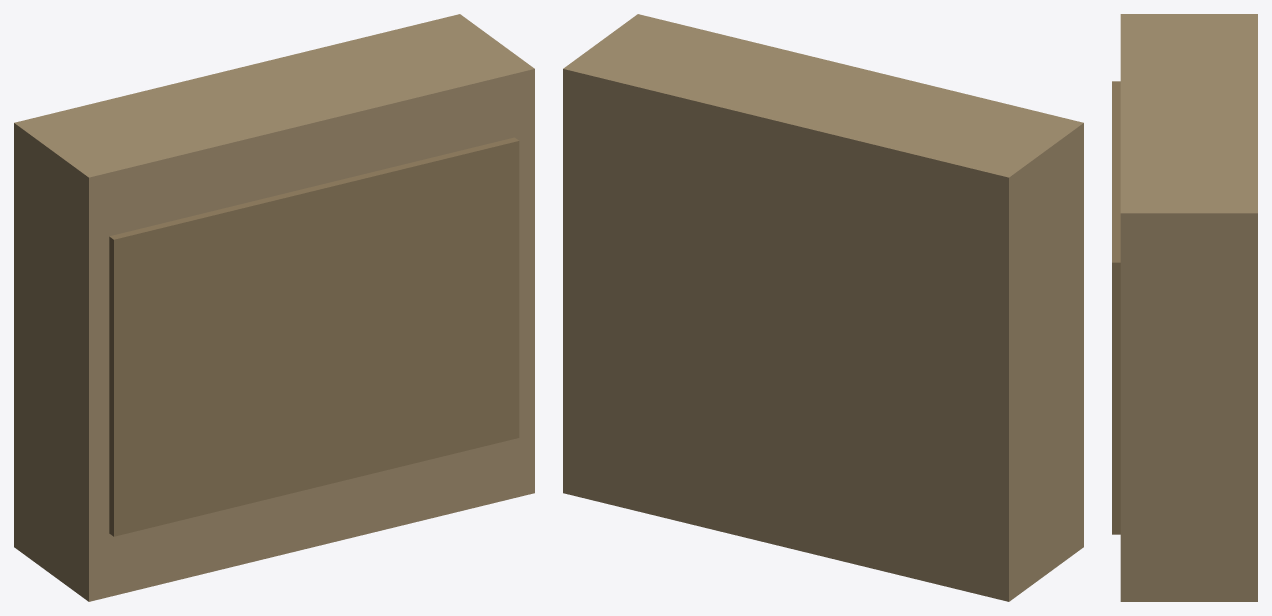
File: shoecab.glb
3 renders of one model, left to right at view 1: azimuth 30°, elevation 25°; view 2: azimuth 150°, elevation 25°; view 3: azimuth 270°, elevation 25°, orthographic. The views are drawn at different scales.
Visible parts, largest first — view 1: shoecab; view 2: shoecab; view 3: shoecab.
Boxes of the visible parts, x1,y1,x2,y2 form: shoecab: [14, 14, 534, 601]; shoecab: [563, 14, 1083, 601]; shoecab: [1112, 14, 1257, 601].
Size of the model in its own units: 1.1 by 1 by 0.34.
